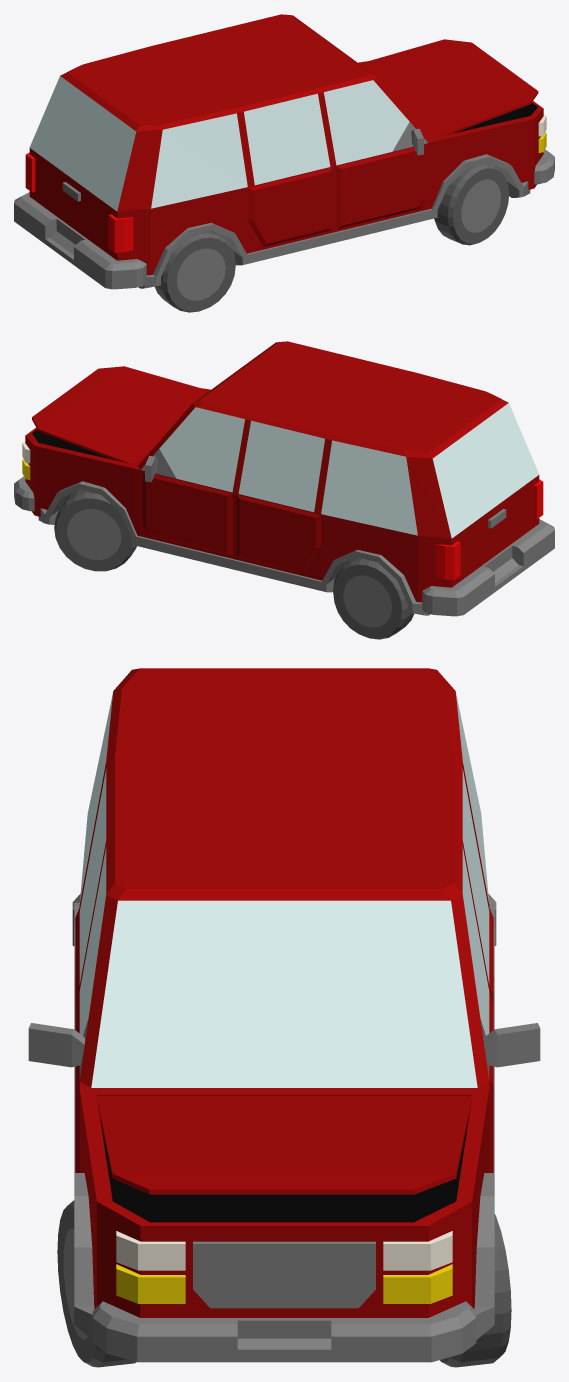
Rendered from SUV.fbx.
3 views of the same model, one above another, from view 1: azimuth 30°, elevation 25°; view 2: azimuth 150°, elevation 25°; view 3: azimuth 270°, elevation 25° (orthographic). The views are drawn at different scales.
Parts seen in each view (by area): view 1: group_8.003; view 2: group_8.003; view 3: group_8.003.
Boxes of the visible parts, bbox=[...] form: group_8.003: bbox=[14, 14, 554, 312]; group_8.003: bbox=[14, 341, 554, 639]; group_8.003: bbox=[28, 668, 540, 1367].
Size of the model in its own units: 432 by 169 by 209.
